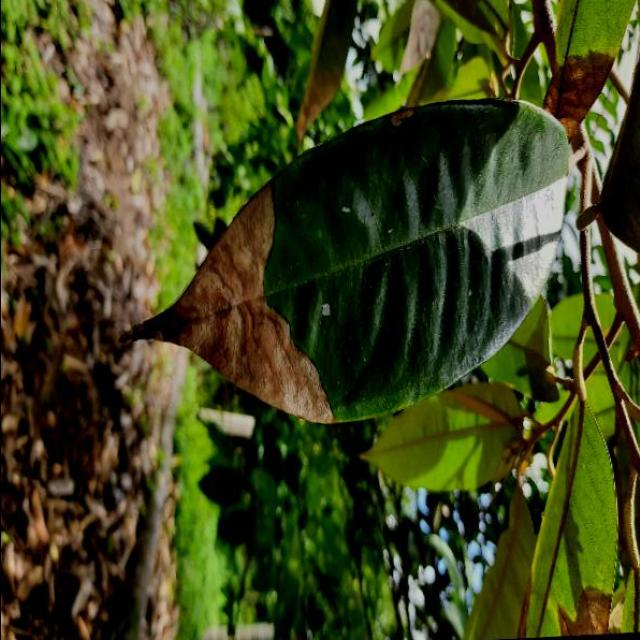Leaf Blight: (120, 81, 594, 442)
